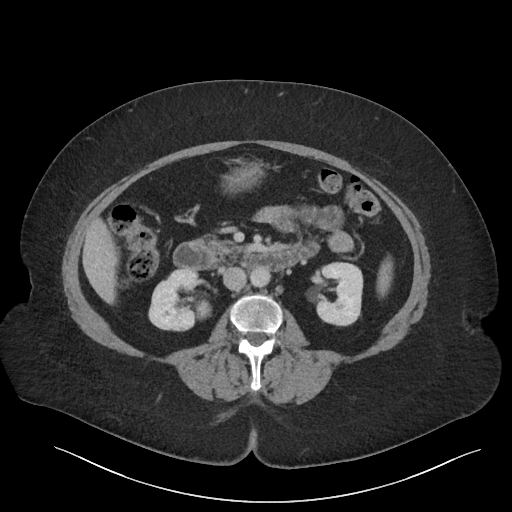Lesion: (163, 307, 172, 318)
